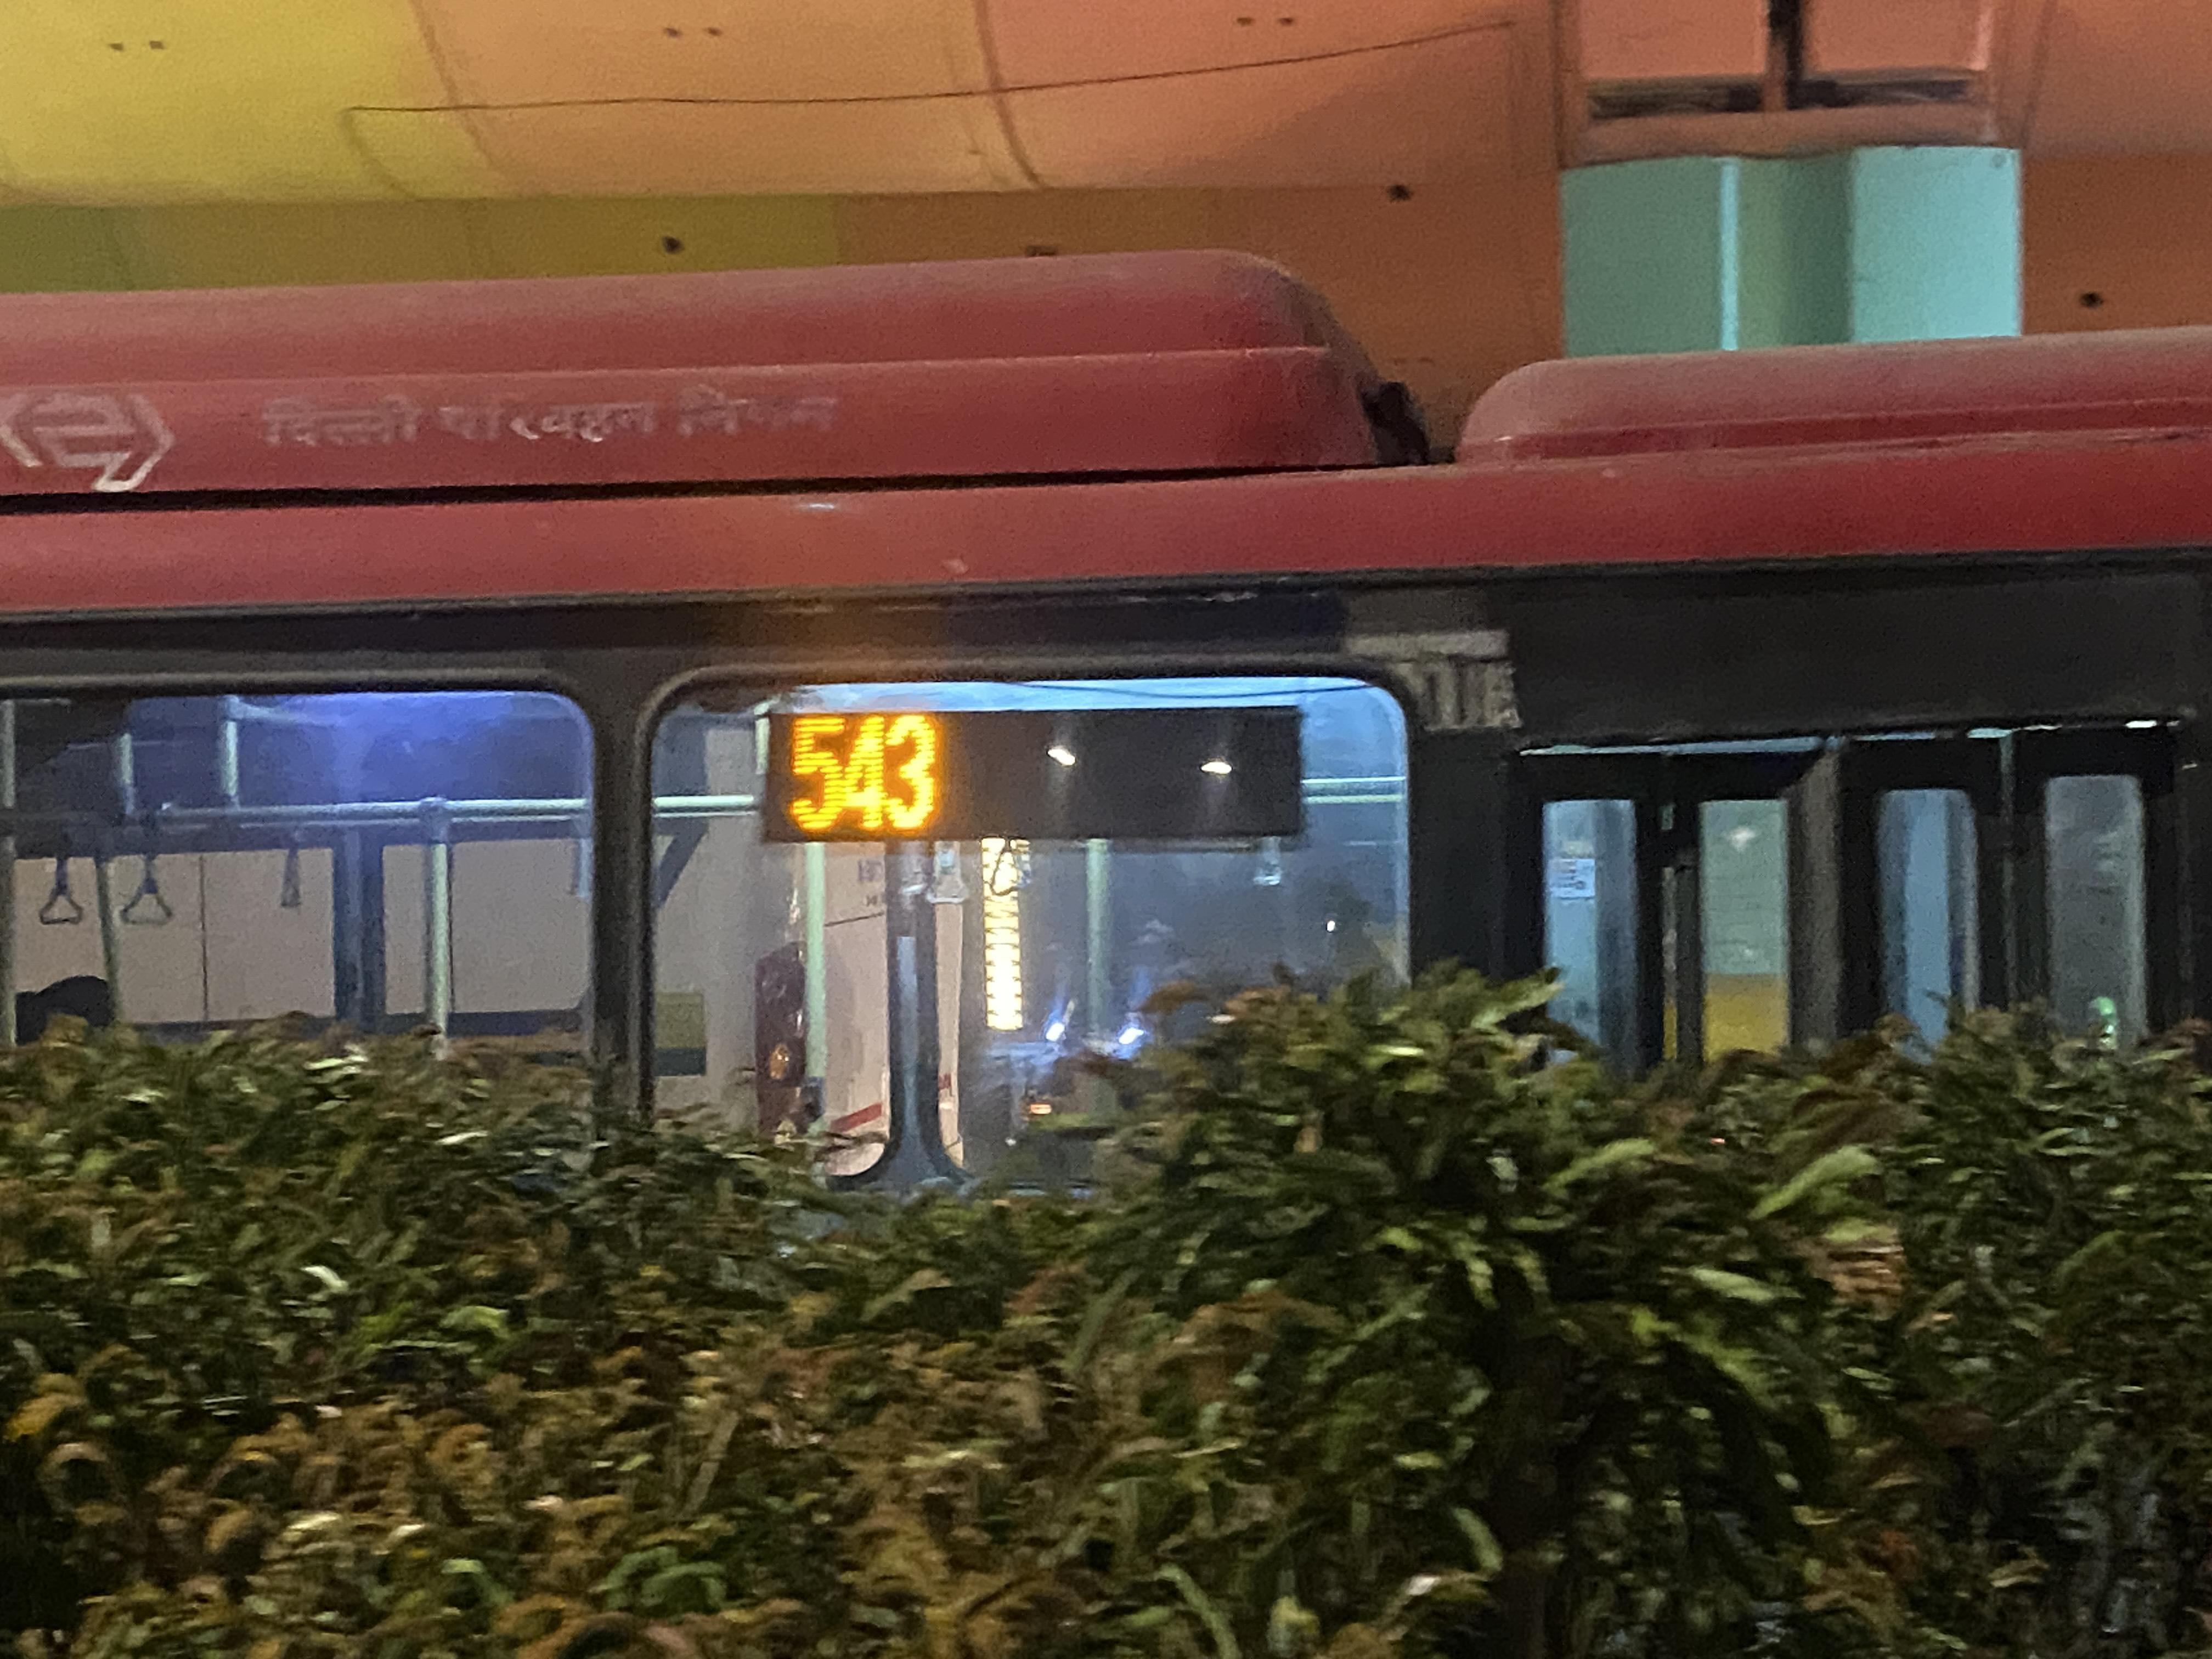Bus: (0, 220, 2212, 1415)
Display Board: (768, 697, 1332, 861)
